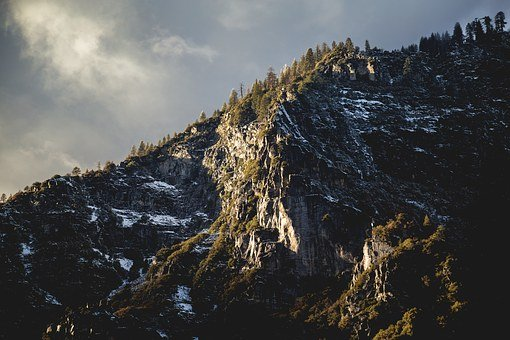mountain: (110, 45, 507, 335)
sky: (4, 5, 341, 138)
